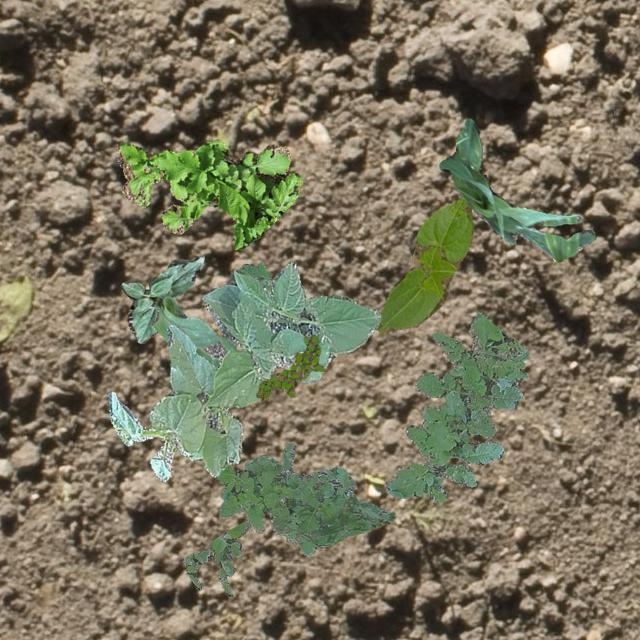crop: (106, 262, 380, 480), (438, 117, 594, 260), (376, 197, 472, 336), (119, 255, 203, 342), (150, 292, 237, 368)
weed: (384, 312, 528, 500), (118, 138, 302, 248), (215, 442, 394, 554), (182, 518, 250, 596), (254, 334, 324, 401), (238, 262, 272, 294)
